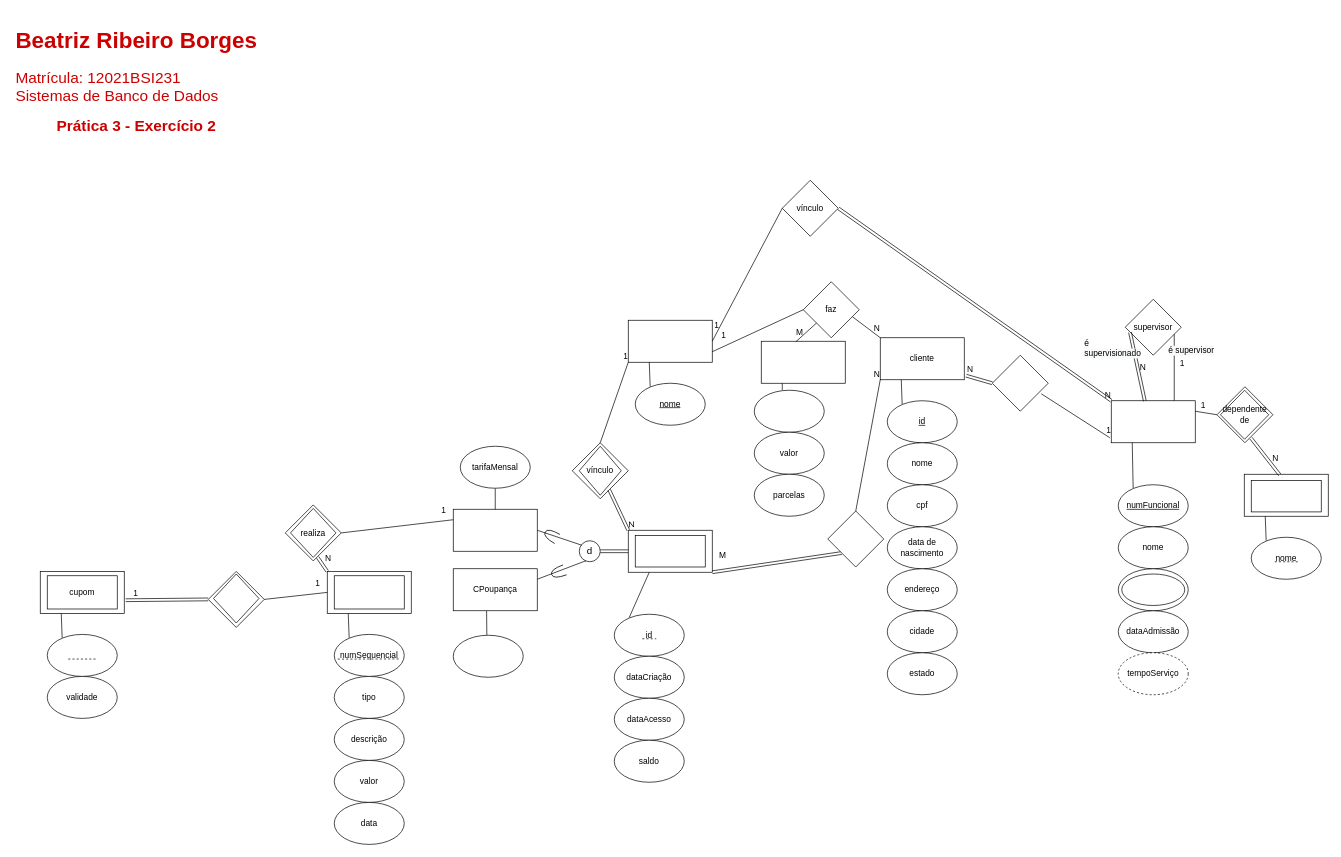
Image size: 1341x857. Some labels were removed from this diagram. Here are the shapes that lost their labels. From the top down, the box of each, then its label:
(628, 320, 712, 362): agência
(761, 341, 845, 383): empréstimo
(992, 355, 1048, 411): gerente
(754, 390, 824, 432): nº Empréstimo
(1111, 400, 1195, 443): funcionario
(1244, 474, 1328, 516): dependente
(453, 509, 537, 551): CConrrente
(827, 510, 884, 567): possui
(628, 530, 712, 572): conta
(208, 571, 264, 627): gera
(327, 571, 411, 613): operações Bancárias
(1118, 568, 1188, 611): telefone
(47, 634, 117, 676): número
(453, 635, 523, 677): taxaJuros
